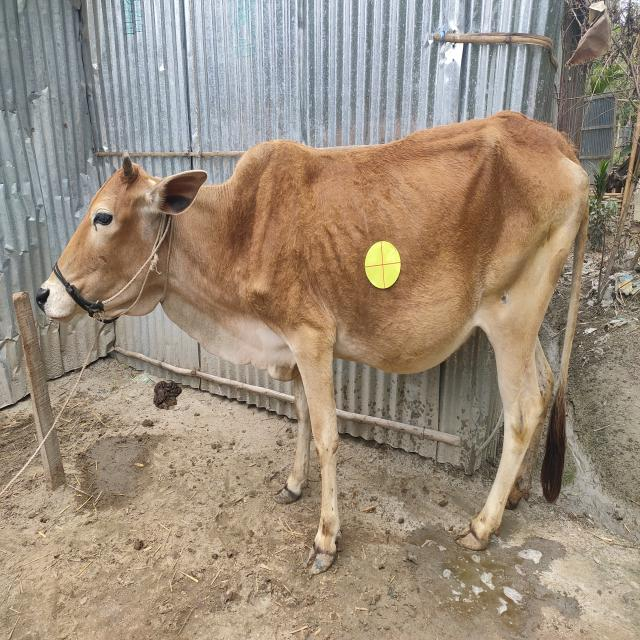badan_sapi: (284, 142, 590, 374)
sapi: (30, 99, 599, 586)
